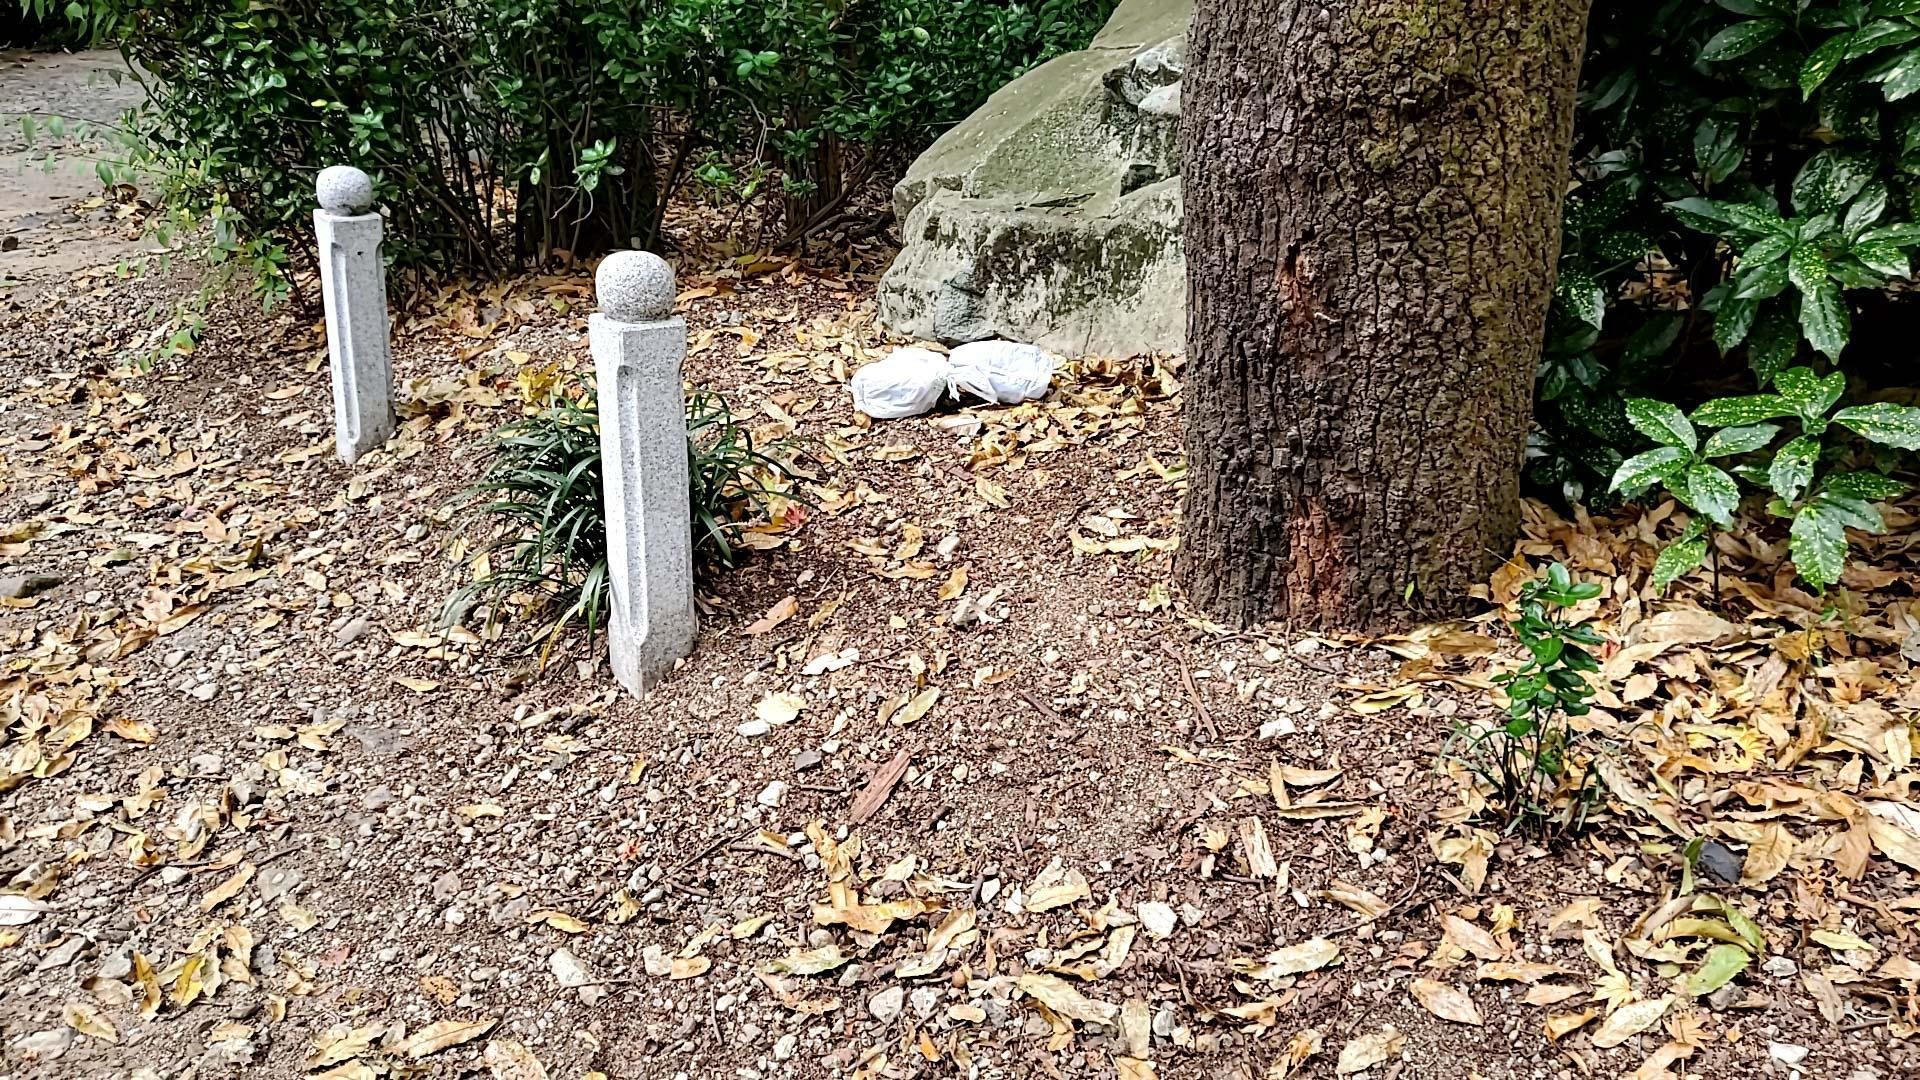white_bag: (845, 338, 997, 429), (945, 335, 1069, 410)
